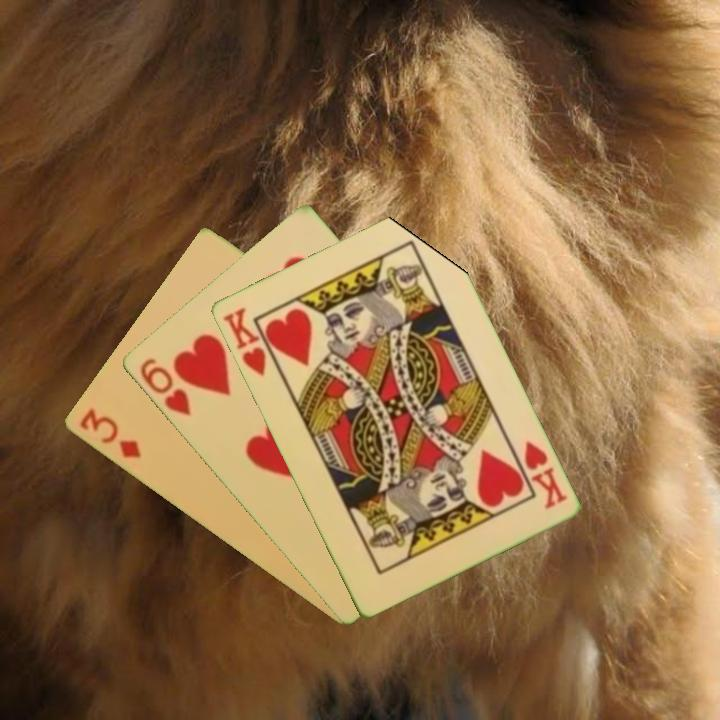3d: (75, 404, 144, 462)
6h: (135, 354, 194, 419)
Kh: (218, 303, 282, 378), (520, 437, 570, 512)
